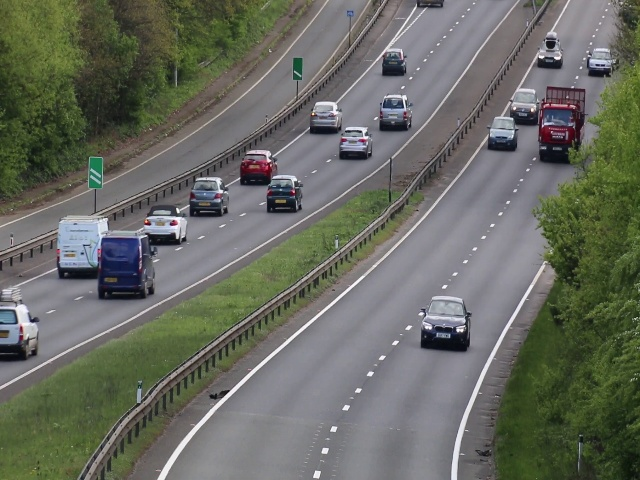car: (99, 235, 155, 300), (418, 293, 471, 352), (55, 212, 99, 279), (1, 302, 43, 358), (539, 103, 577, 163), (144, 204, 187, 245), (190, 175, 229, 217), (264, 174, 305, 210), (378, 92, 413, 132), (240, 146, 276, 184), (339, 126, 374, 160), (507, 88, 540, 124), (311, 99, 343, 131), (488, 115, 516, 150), (381, 46, 407, 76), (587, 47, 613, 74), (537, 43, 563, 68)
